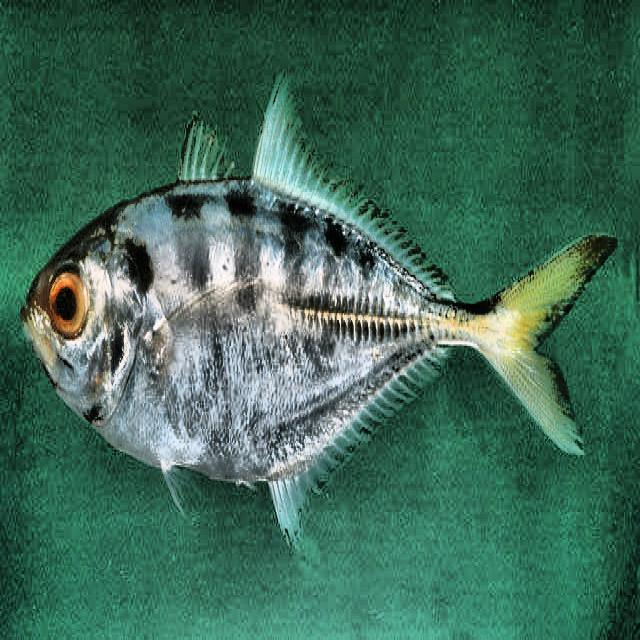fish: (19, 69, 619, 552)
